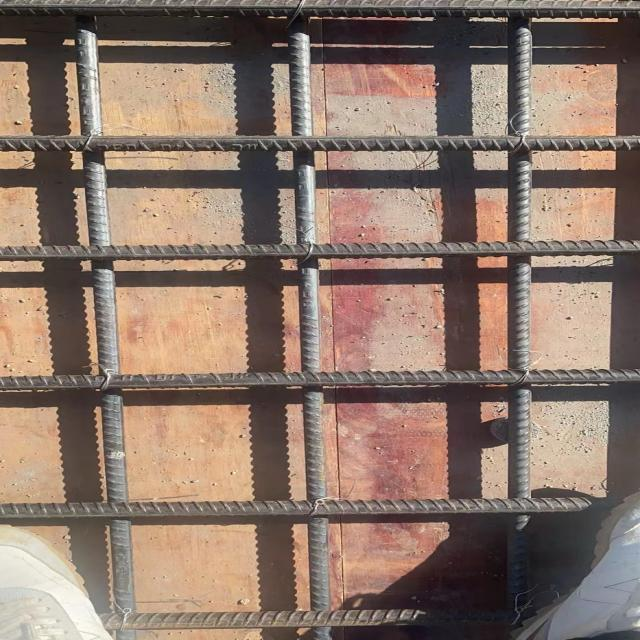ribbed bar: (73, 16, 141, 639), (286, 16, 334, 639), (507, 17, 535, 621), (1, 499, 621, 523), (2, 239, 640, 262), (2, 368, 640, 391), (2, 133, 640, 153), (2, 0, 640, 18), (103, 610, 512, 630)
